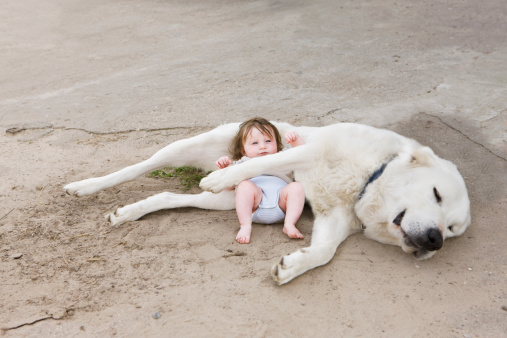deitado: (140, 114, 326, 248)
